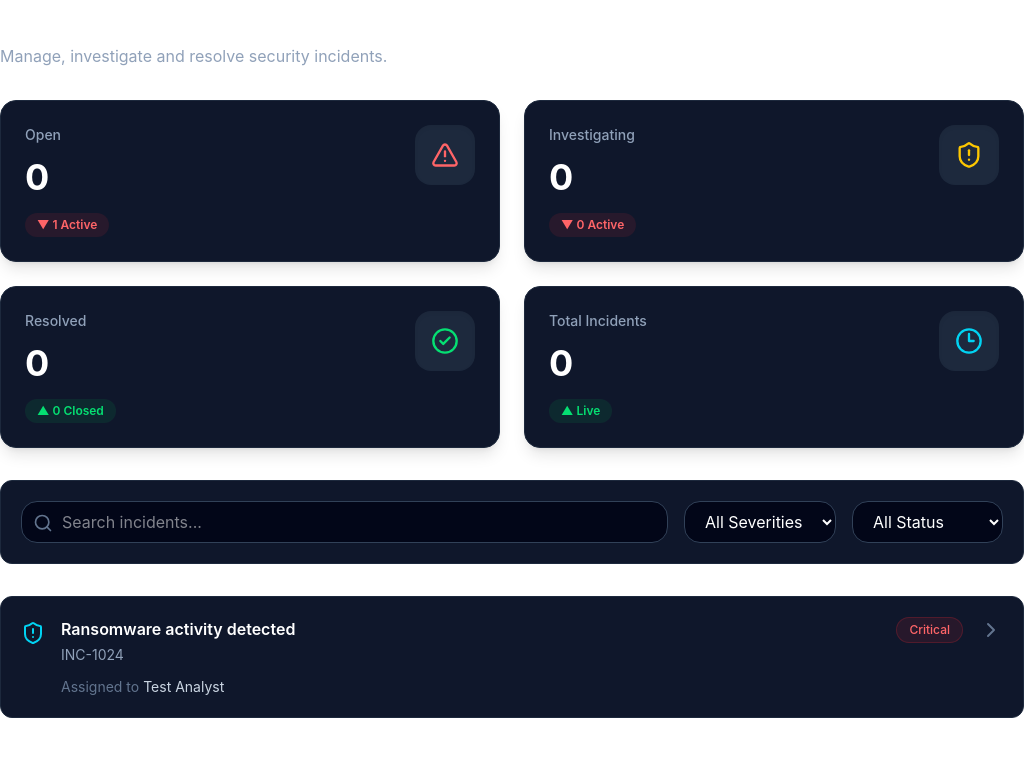
Test: Incident rendering › labels the AI analyst as a template provider when no model backs it
What coordinates should you click on to do the following:
click the heading "Ransomware activity detected"
I would click on:
 (178, 629)
Its box is [61,617,295,641].
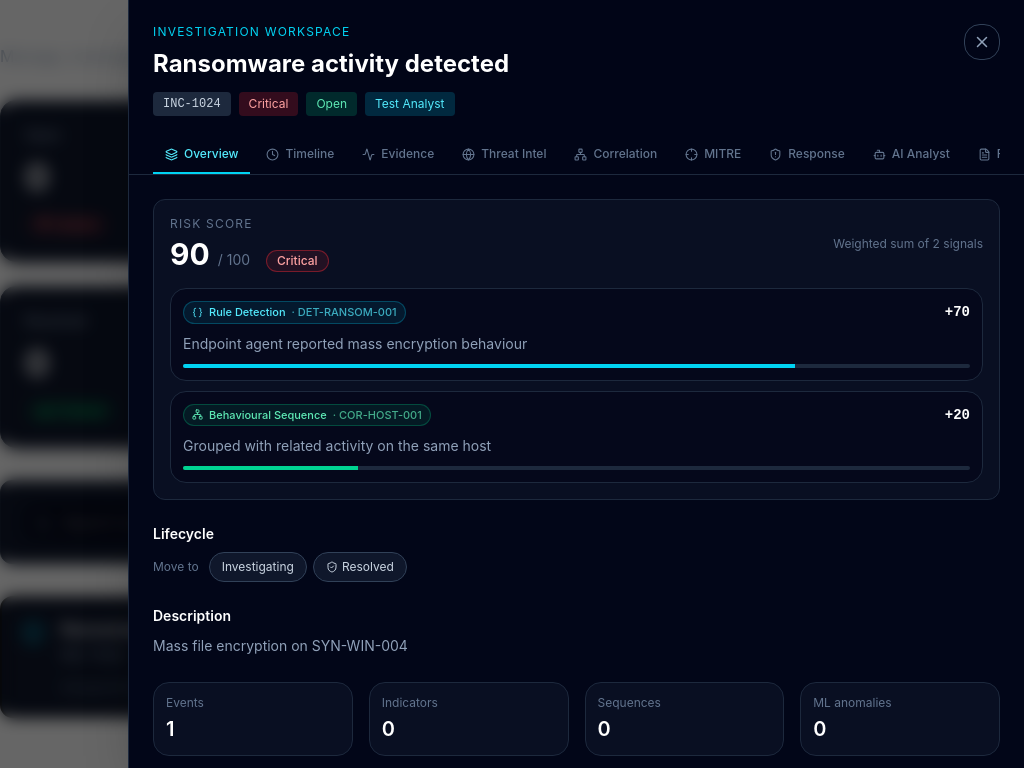
What coordinates should you click on to do the following:
click the tab "AI Analyst"
I would click on:
 (911, 155)
Its box is [861,136,962,174].
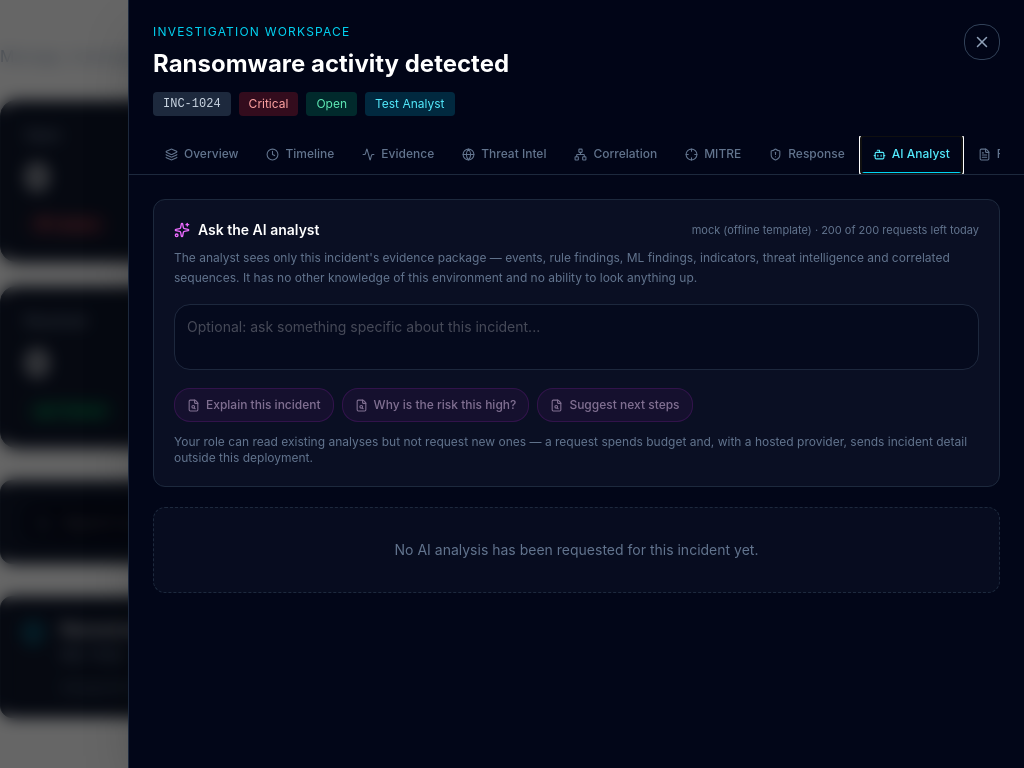
Now the text "mock (offline template) · 200 of 200 requests left today" is shown, box [692,222,979,238]
Now the text "No AI analysis has been requested for this incident yet." is shown, box [153,507,1000,593]
